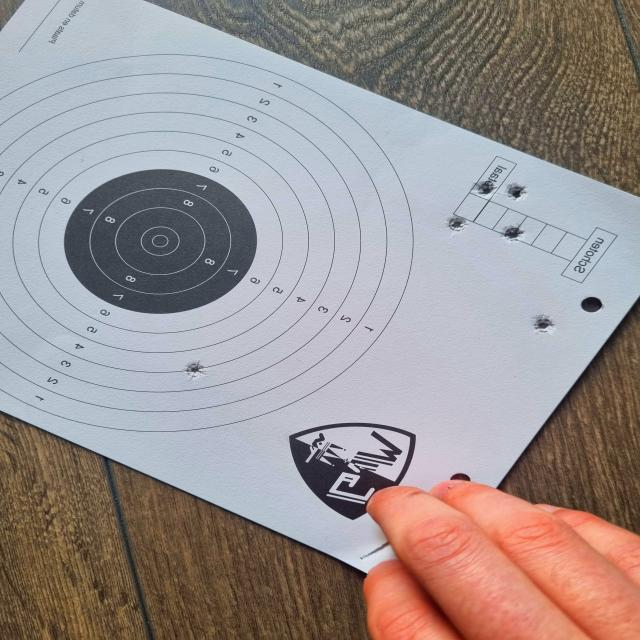0: (501, 225, 524, 242), (533, 315, 553, 334), (472, 181, 497, 196), (446, 216, 469, 232), (506, 184, 528, 200)
4: (186, 362, 207, 382)
Target: (0, 55, 414, 433)
black_contour: (64, 170, 257, 314)
